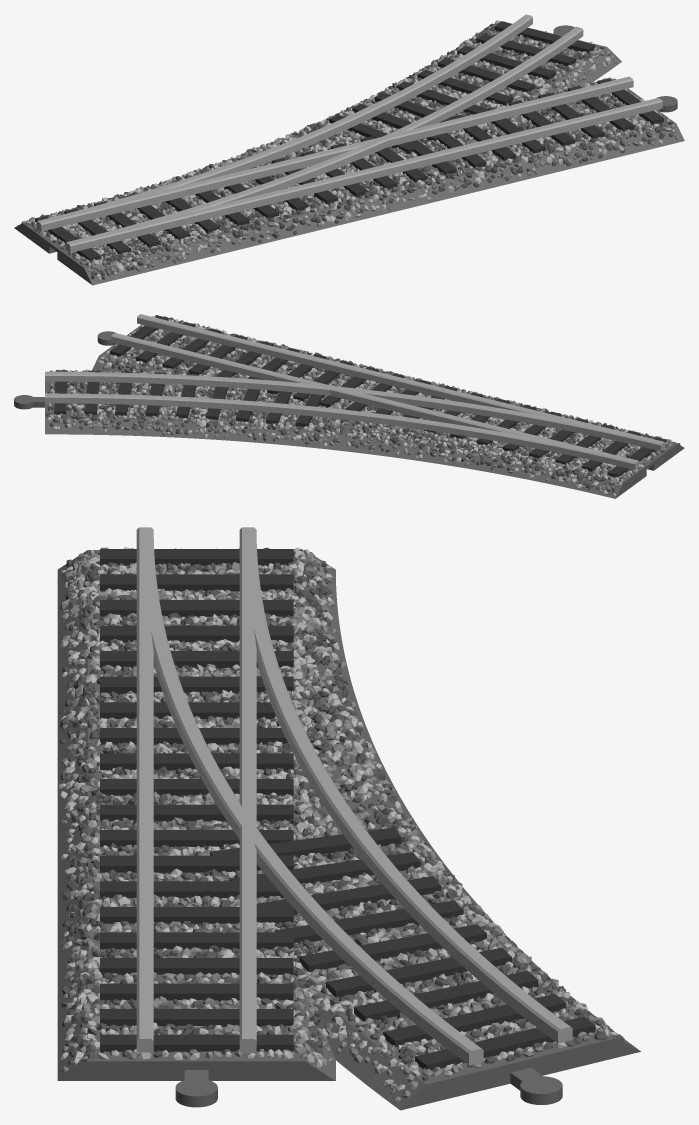
The model's file is Rail_Junction_Left30.obj.
3 views of the same model, one above another, from view 1: azimuth 30°, elevation 25°; view 2: azimuth 150°, elevation 25°; view 3: azimuth 270°, elevation 25° (orthographic). The views are drawn at different scales.
Parts seen in each view (by area): view 1: Rail_Junction_Left30; view 2: Rail_Junction_Left30; view 3: Rail_Junction_Left30.
Boxes of the visible parts, x1=… form: Rail_Junction_Left30: x1=14, y1=14, x2=684, y2=285; Rail_Junction_Left30: x1=14, y1=314, x2=684, y2=498; Rail_Junction_Left30: x1=57, y1=527, x2=640, y2=1110.
Bounding box in the file's own units: 2.12 × 0.0828 × 0.9651.
1 material, 1 textured.
